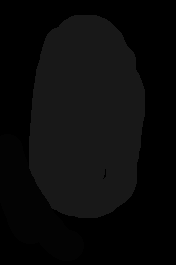fp: (27, 9, 151, 211)
